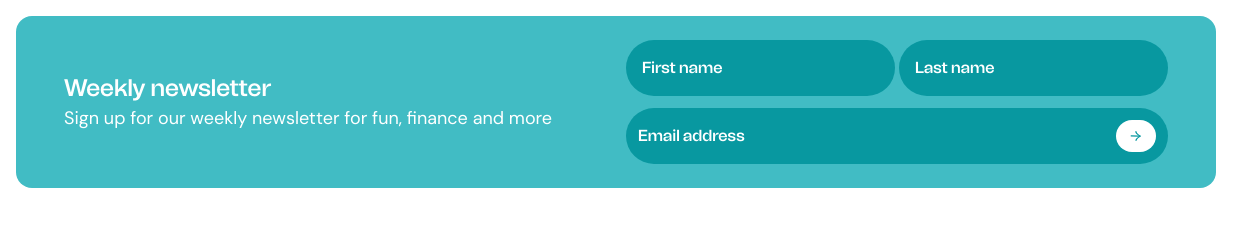
Test: Newsletter Form › handles API failure gracefully
In the field with test id "first-name-input": (760, 68) [626,40,895,96], type "Chris"
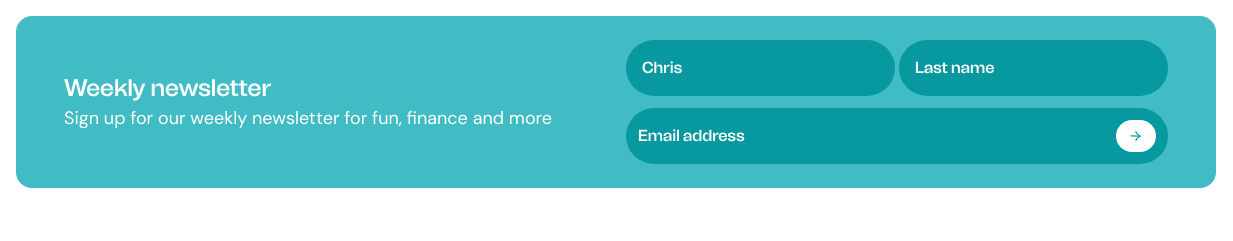
In the field with test id "last-name-input": (1034, 68) [899,40,1168,96], type "Stone"
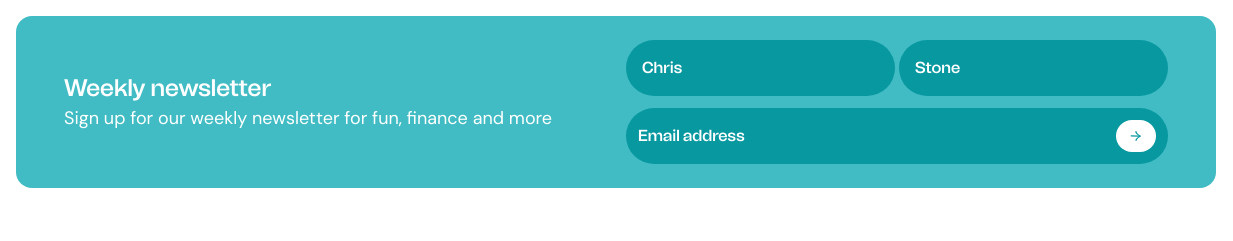
In the field with test id "email-input": (871, 136) [638,124,1104,148], type "chris@stone.com"
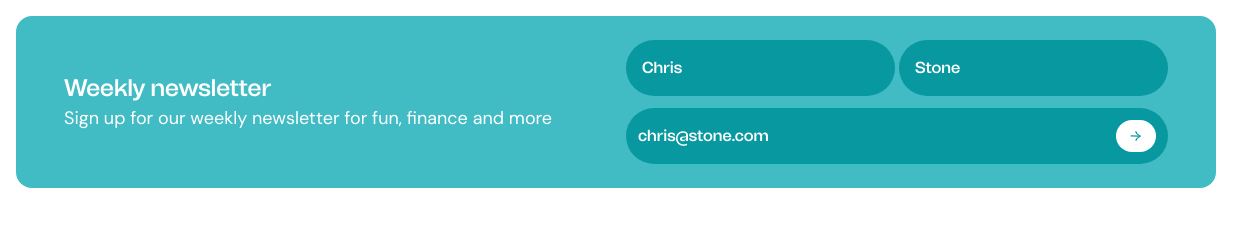
Click the button with test id "submit-button": (1136, 136) [1116,120,1156,152]
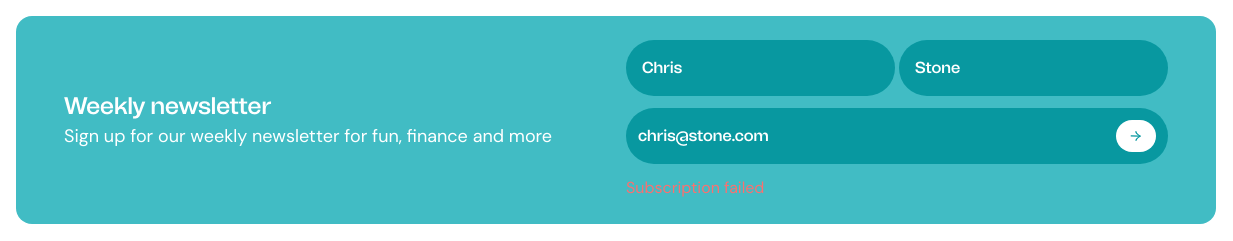
Result: the text with test id "error-message" reads "Subscription failed" at [626,177,764,198]
